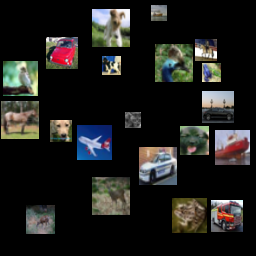airplane: (77, 125, 112, 160)
automobile: (139, 147, 177, 185), (46, 37, 78, 69), (202, 91, 234, 123)
bird: (155, 44, 193, 82), (3, 61, 38, 96)
cat: (125, 112, 141, 128)
deer: (92, 177, 130, 215), (26, 205, 55, 234)
dog: (92, 9, 130, 47), (180, 126, 209, 155), (50, 120, 72, 142), (102, 56, 121, 75)
frog: (172, 198, 207, 233), (202, 63, 221, 82)
ship: (215, 130, 250, 165), (151, 5, 167, 21)
